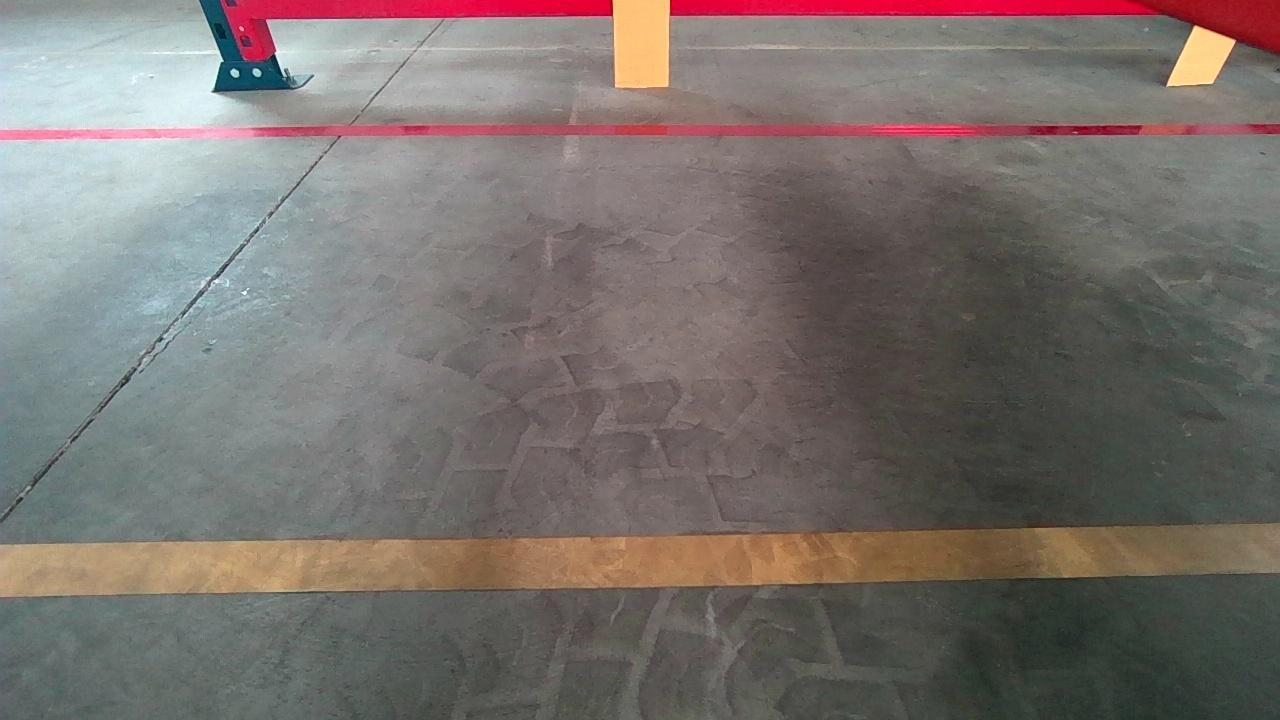h_rack: (253, 0, 1158, 18)
orange_strip: (613, 0, 671, 85), (1167, 22, 1238, 86)
red_line: (0, 122, 1280, 140)
yellow_line: (0, 524, 1280, 597)
